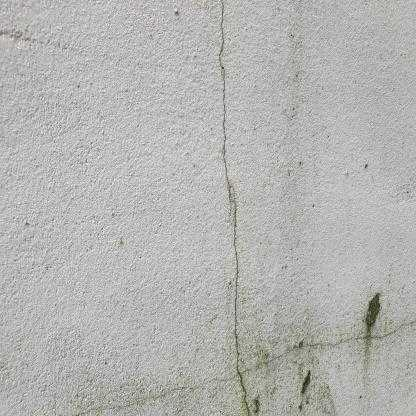crack: (218, 0, 250, 412)
